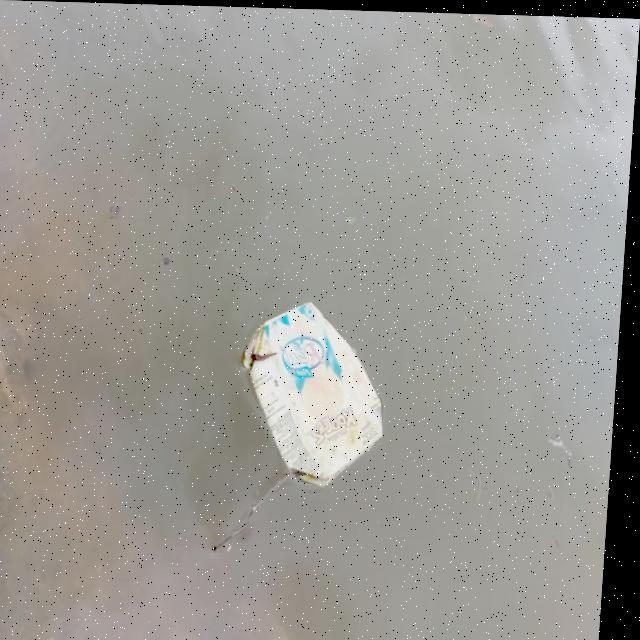paper: (237, 262, 453, 536)
